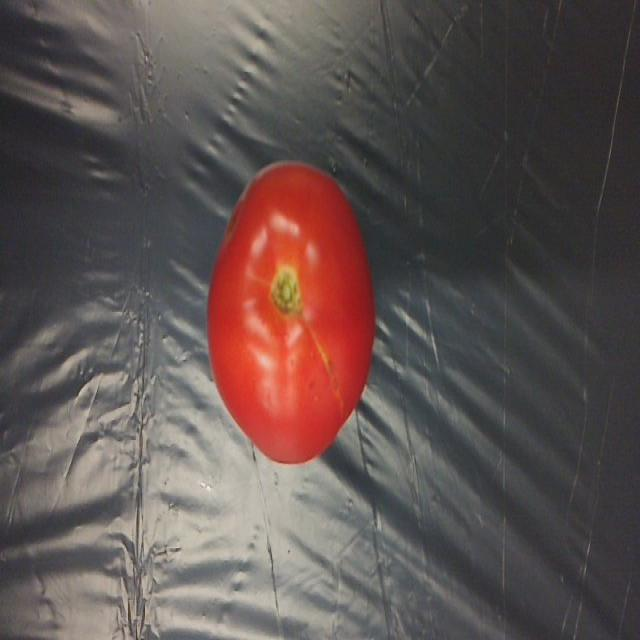kirmizi: (207, 158, 380, 478)
